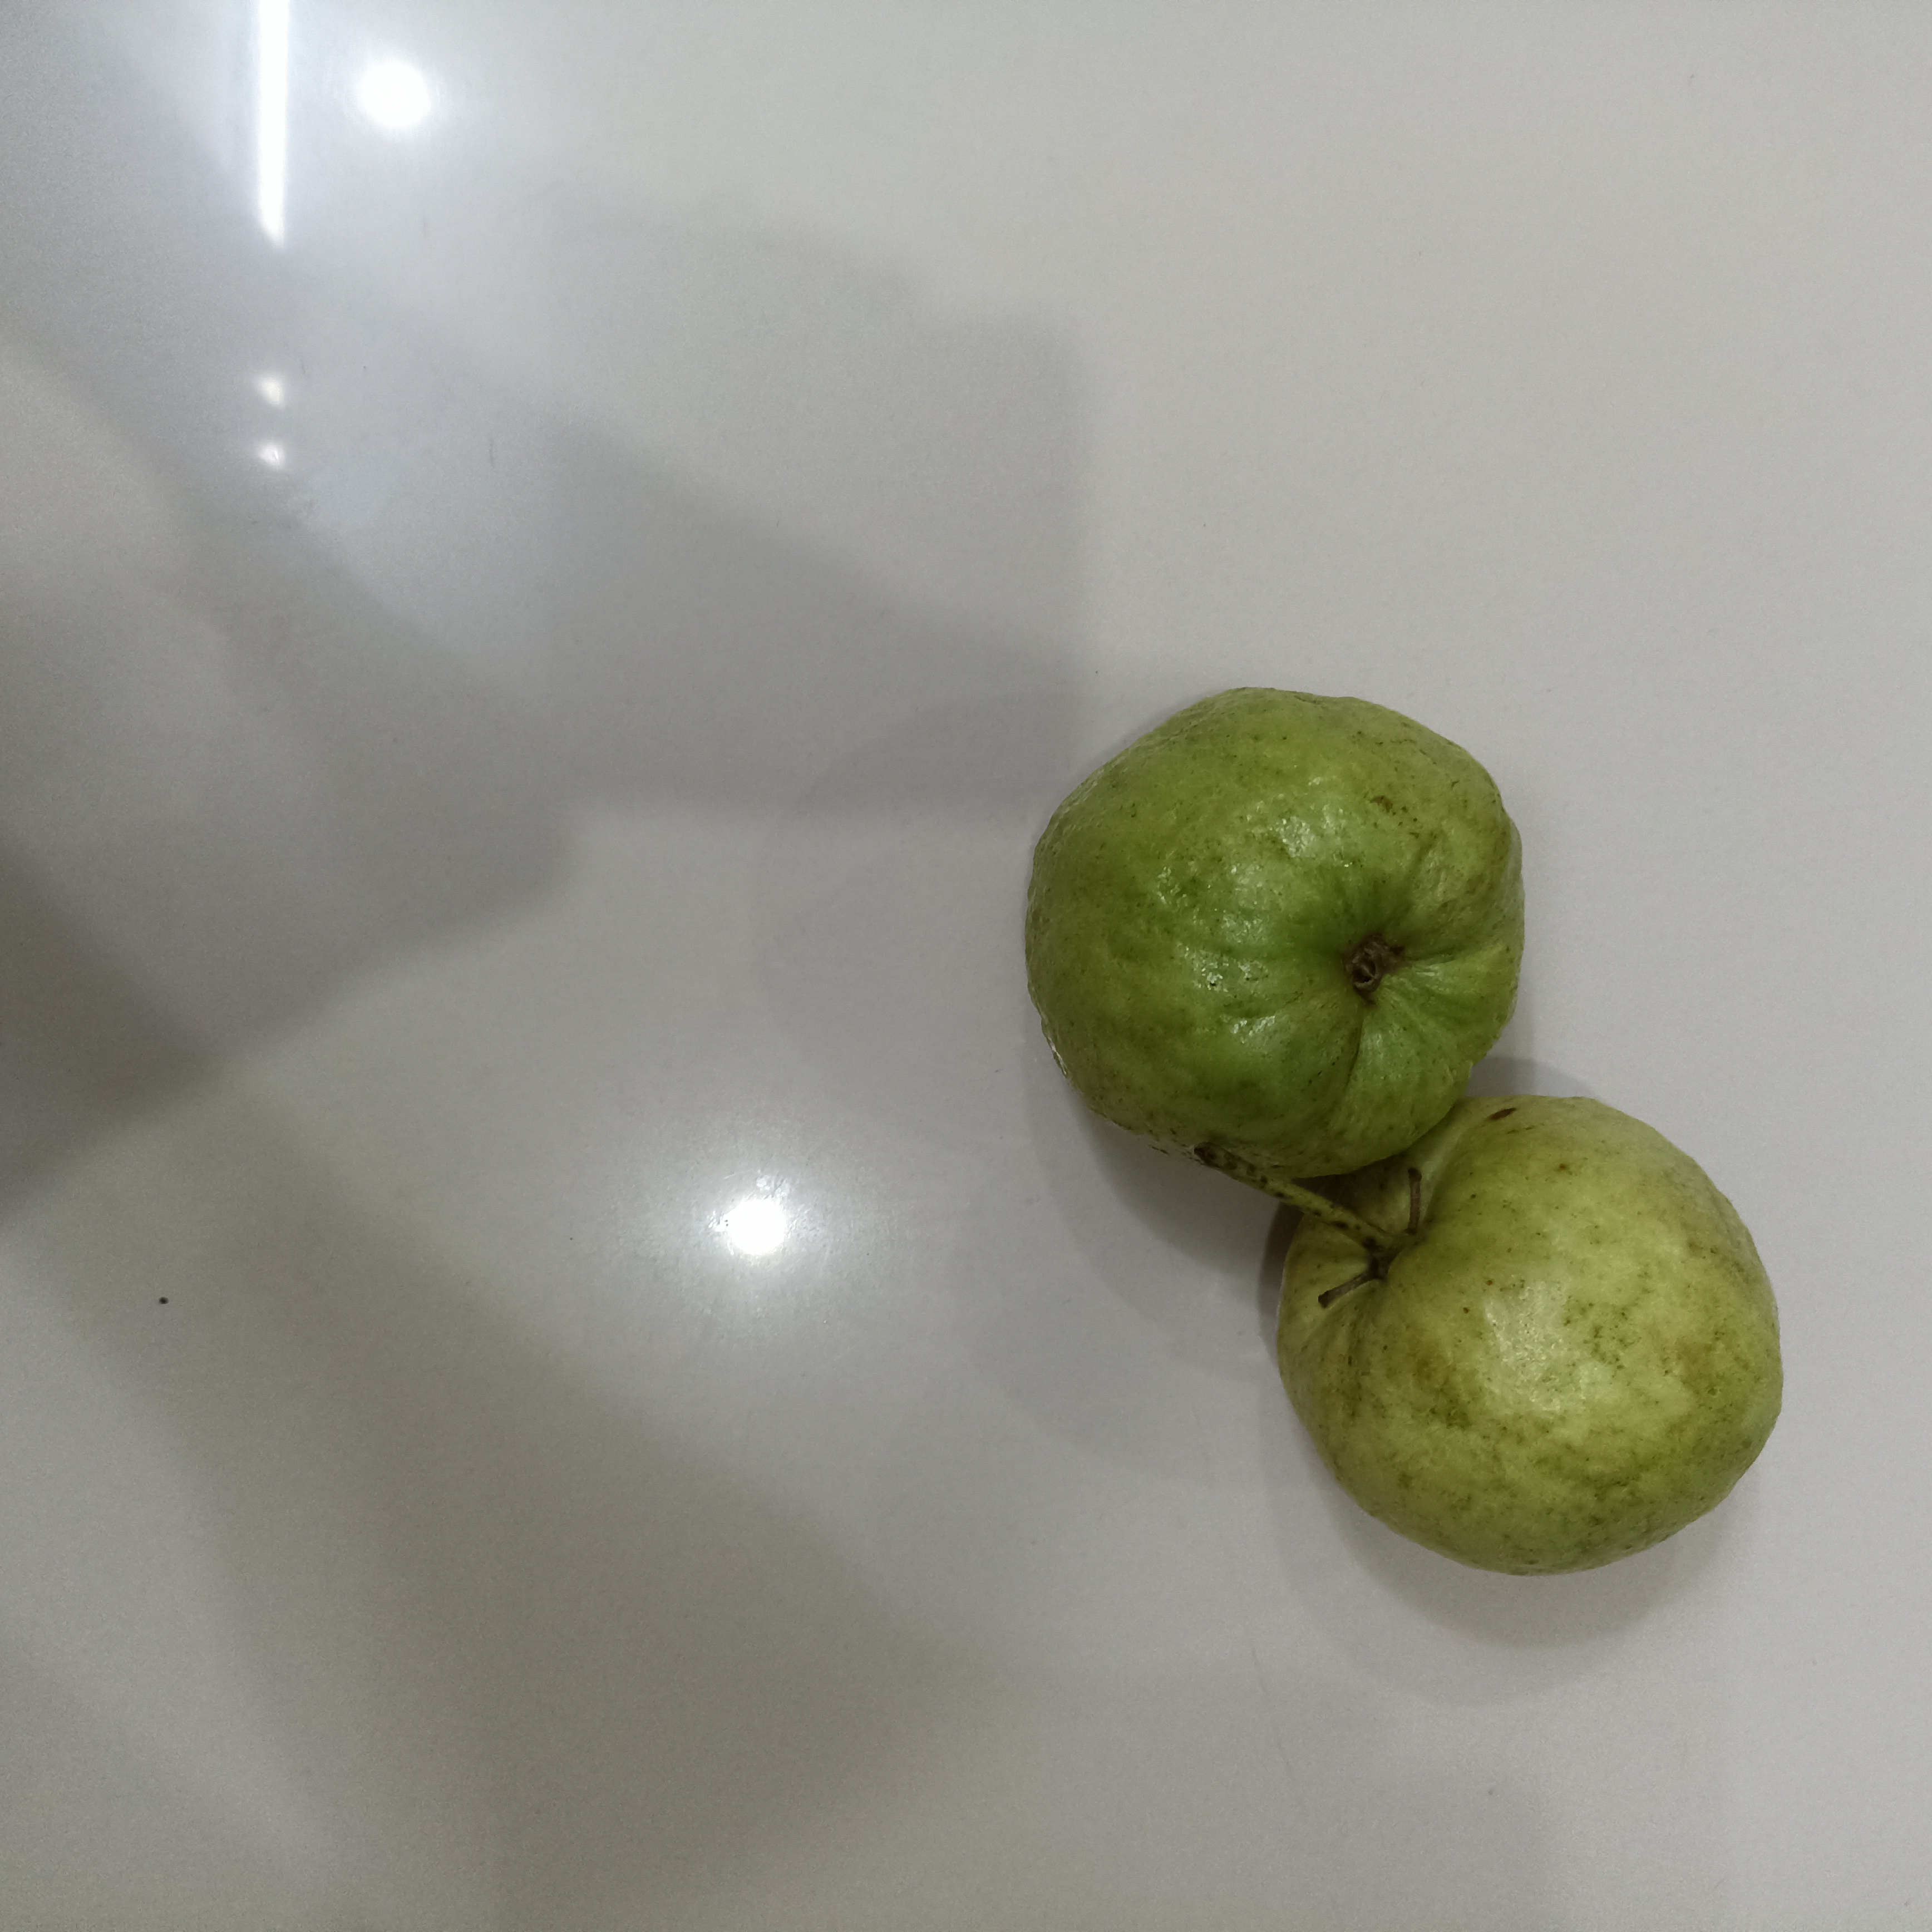Oi: (1245, 1100, 1787, 1569), (1022, 687, 1523, 1170)
